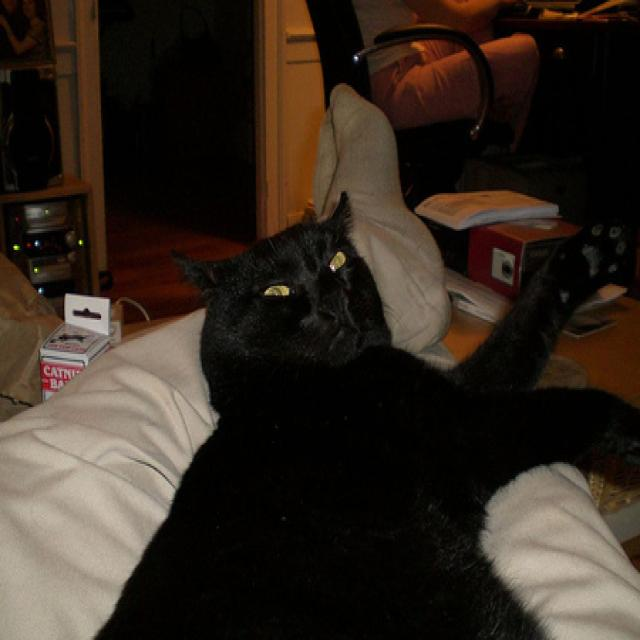Bombay: (68, 183, 639, 640)
